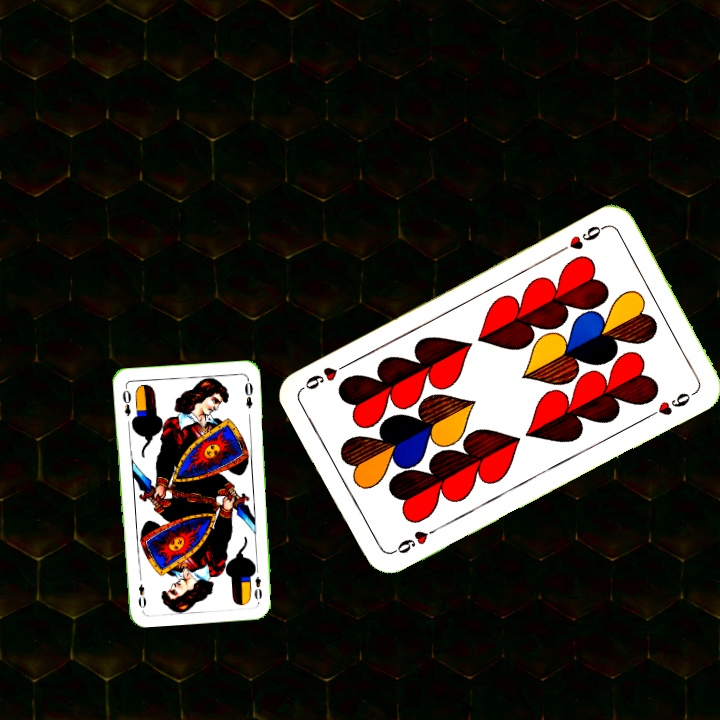EO: (249, 563, 265, 602), (118, 383, 134, 419)
H9: (555, 220, 611, 255), (388, 522, 443, 557)
